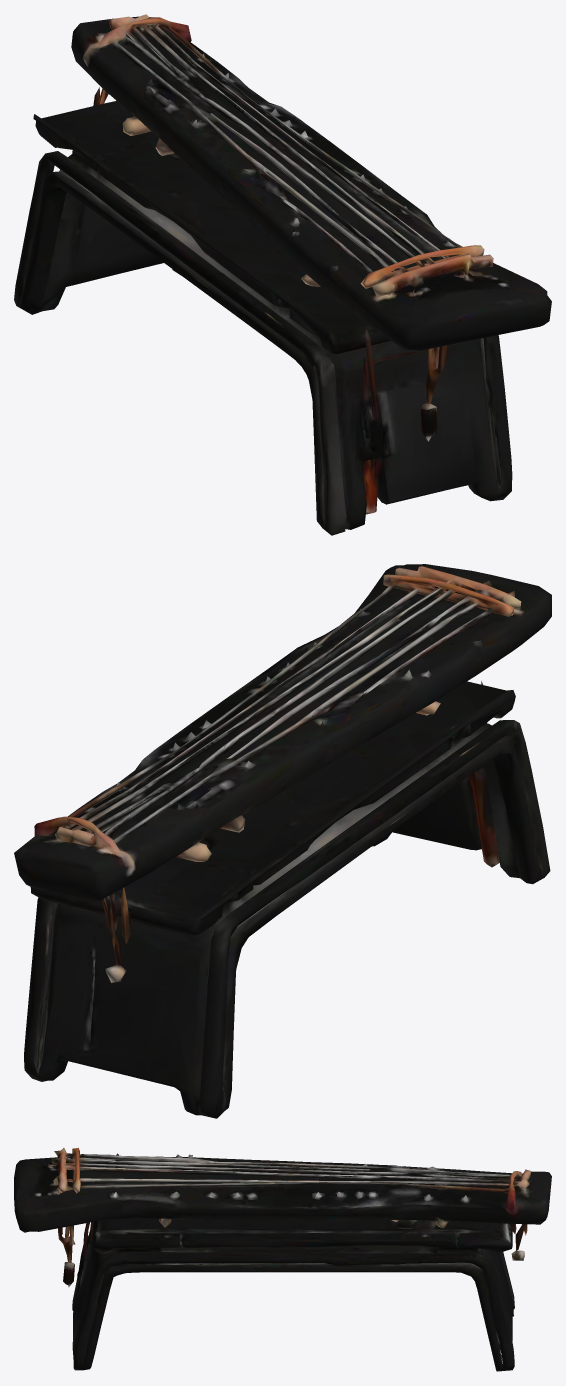
Rendered from qinzhuo.glb.
The picture shows the model from 3 angles, top to bottom: view 1: azimuth 30°, elevation 25°; view 2: azimuth 150°, elevation 25°; view 3: azimuth 270°, elevation 25°; orthographic projection. The views are drawn at different scales.
Visible parts, largest first — view 1: tripo_node_e14439ee-2e11-40e7-88c0-2434f63835b0; view 2: tripo_node_e14439ee-2e11-40e7-88c0-2434f63835b0; view 3: tripo_node_e14439ee-2e11-40e7-88c0-2434f63835b0.
Part boxes in pixels (x1,y1,x2,y2): tripo_node_e14439ee-2e11-40e7-88c0-2434f63835b0: (14,14,551,535); tripo_node_e14439ee-2e11-40e7-88c0-2434f63835b0: (14,564,551,1118); tripo_node_e14439ee-2e11-40e7-88c0-2434f63835b0: (14,1147,551,1371).
Bounding box in the file's own units: 0.7595 × 0.9998 × 2.66.
1 material, 1 textured.
